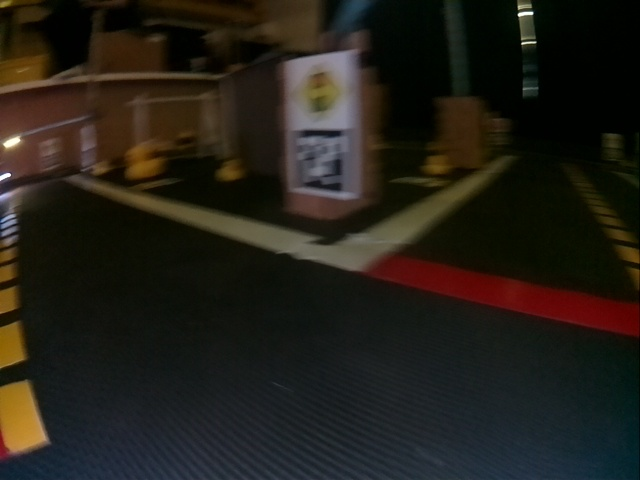Duckie: (126, 148, 159, 179), (423, 155, 451, 174), (218, 159, 241, 181), (92, 162, 108, 175)
QR code: (294, 132, 349, 193)
Signal sign: (289, 66, 344, 123)
